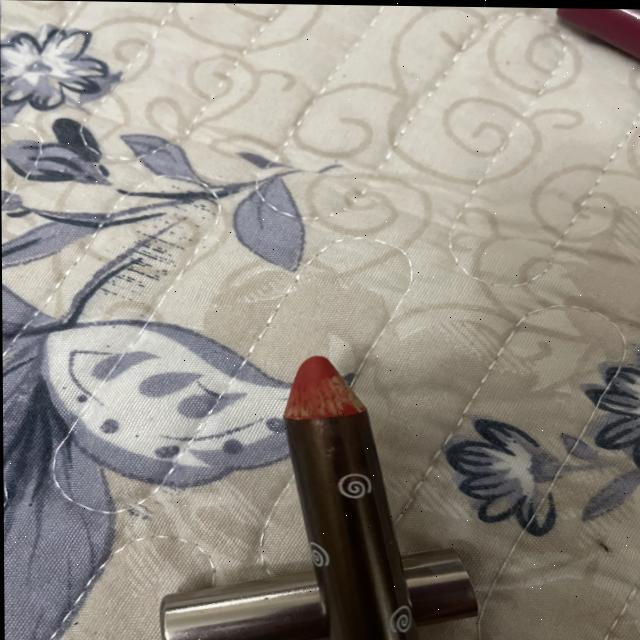lip liner: (277, 347, 441, 640)
